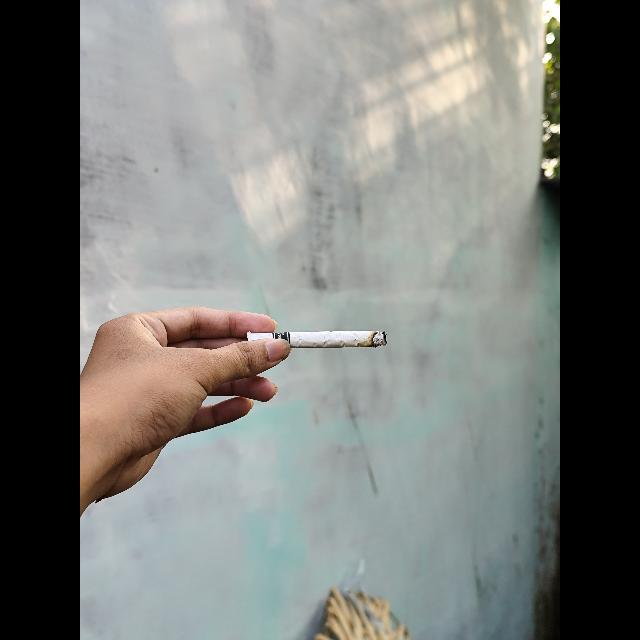rokok: (238, 324, 392, 358)
